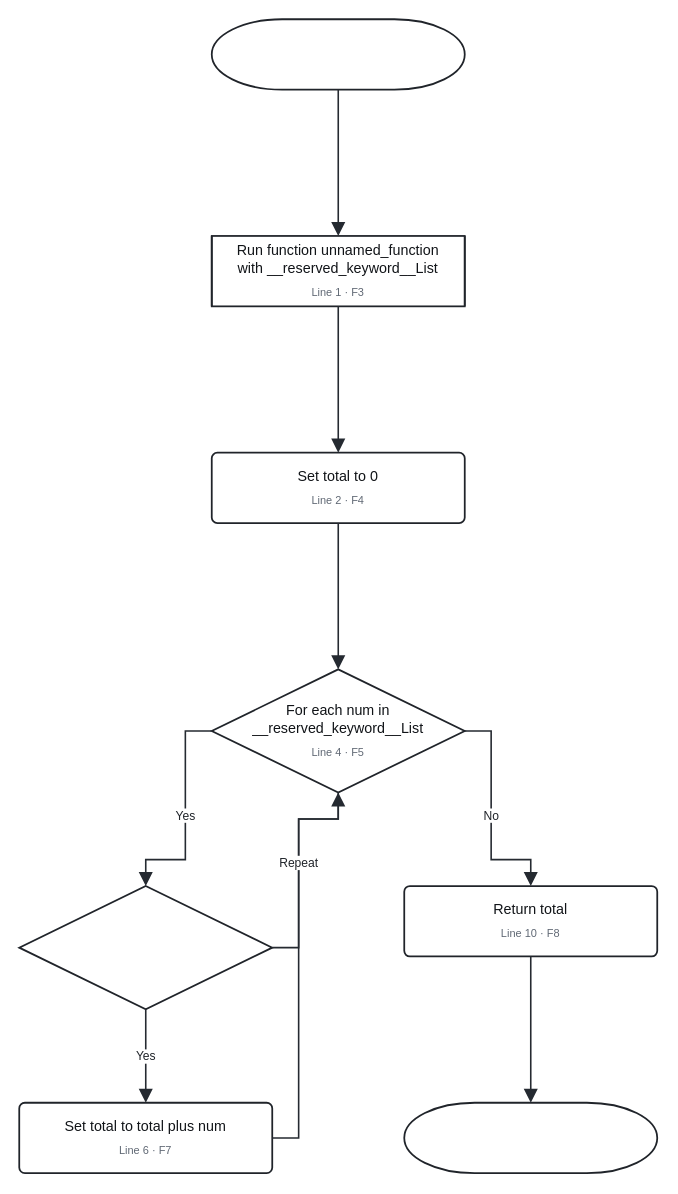
The diagram is 678 pixels wide and 1194 high, and some of its shapes have lost their labels. The shapes that lost their labels are listed below. From the top down, each one's box as (x1, y1, x2, y2) in pixels, then its label:
(210, 18, 465, 90): Start Line 1 · F1
(18, 885, 273, 1010): Num modulo 2 is equal to 0? Line 5 · F6
(403, 1101, 658, 1173): End Line 1 · F2
